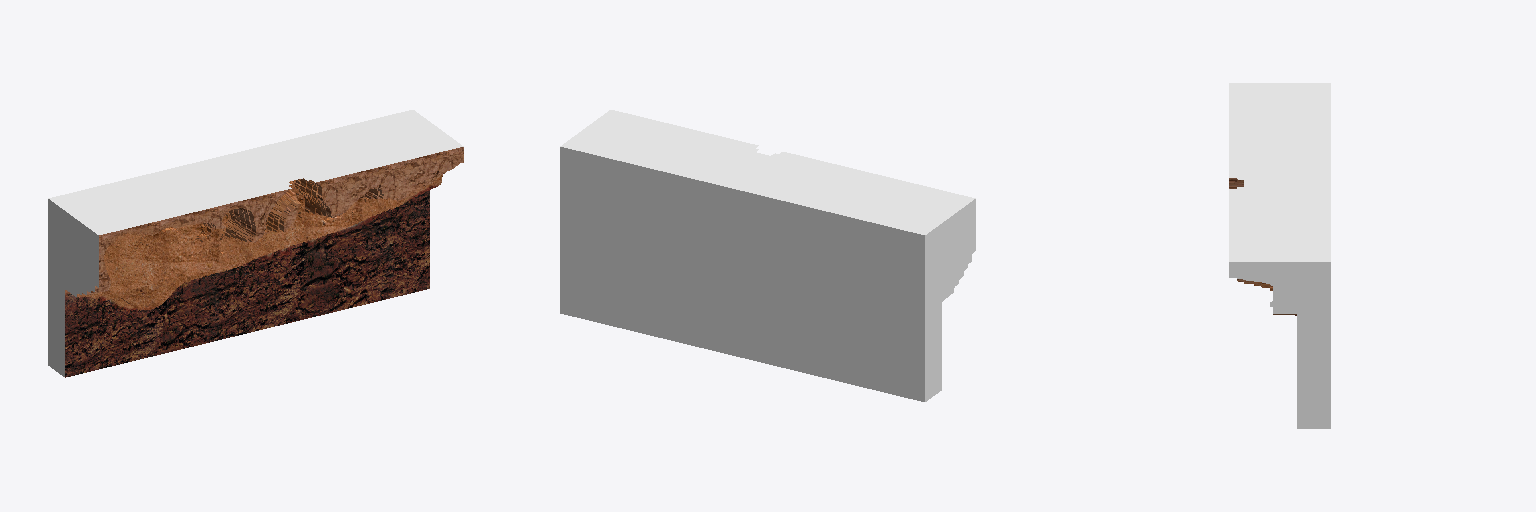
The picture shows the model from 3 angles: view 1: azimuth 30°, elevation 25°; view 2: azimuth 150°, elevation 25°; view 3: azimuth 270°, elevation 25°; orthographic projection.
Parts seen in each view (by area): view 1: Object.1; view 2: Object.1; view 3: Object.1.
Part boxes in pixels (bbox=[...]): Object.1: bbox=[48, 110, 463, 377]; Object.1: bbox=[560, 110, 975, 401]; Object.1: bbox=[1229, 83, 1330, 428].
Bounding box in the file's own units: 139 × 60.96 × 33.53.
Materials: 2 (1 with a texture image).